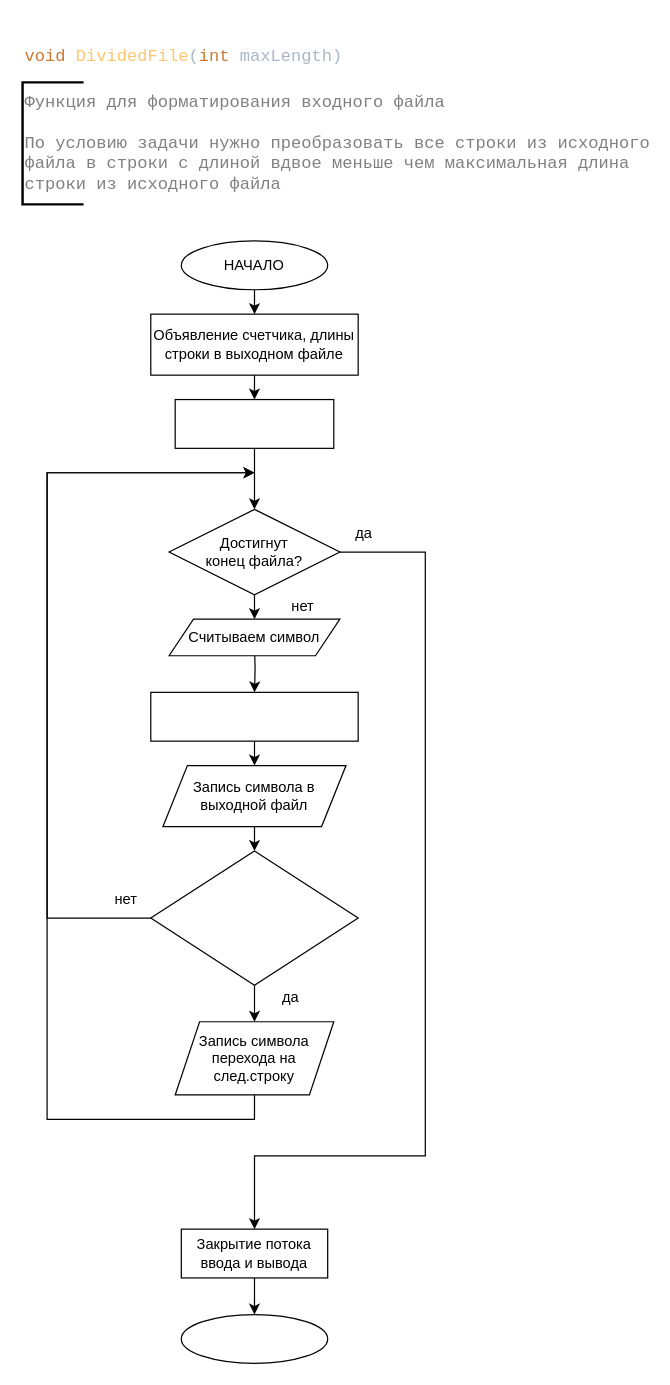
Some shapes in this 670 by 1385 pixel diagram are drawn without their labels. The shapes that lost their labels are listed below. From the top down, each one's box as (x1, y1, x2, y2) in pixels, then its label:
(174, 398, 334, 448): Открытие входного и выходного потока
(150, 691, 358, 741): Увеличиваем счетчик на 1
(150, 850, 358, 985): Остаток от деления счетчика на длину строки = 0?
(180, 1313, 328, 1363): КОНЕЦ
